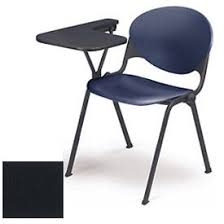desk: (28, 1, 215, 209)
